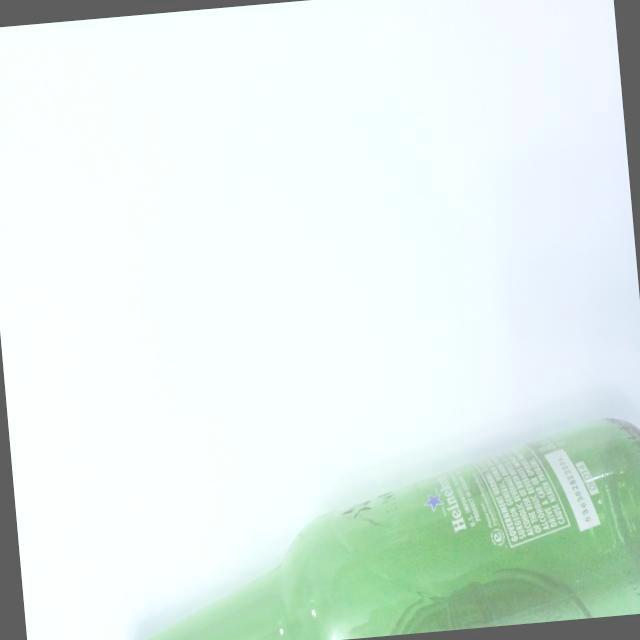glass: (39, 337, 640, 640)
